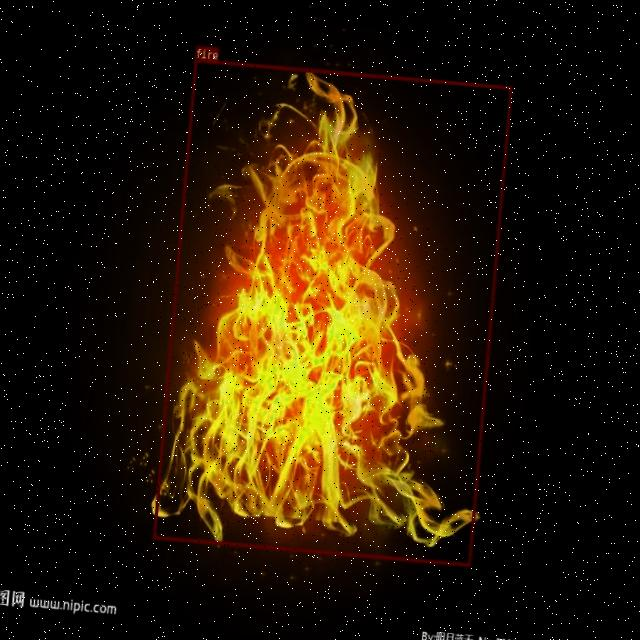fire: (152, 57, 512, 566)
